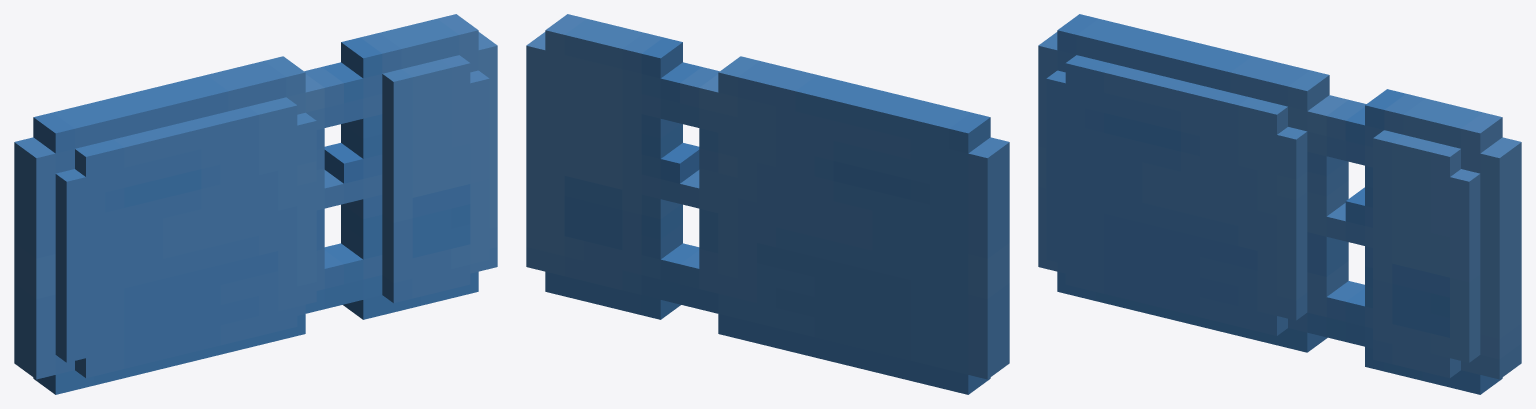
Rendered from ticket-blue.glb.
3 renders of one model, left to right at view 1: azimuth 30°, elevation 25°; view 2: azimuth 150°, elevation 25°; view 3: azimuth 330°, elevation 25°, orthographic.
Visible parts, largest first — view 1: prop; view 2: prop; view 3: prop.
Part boxes in pixels (left/top/right/bottom): prop: left=14, top=14, right=497, bottom=394; prop: left=526, top=14, right=1009, bottom=394; prop: left=1038, top=14, right=1521, bottom=394.
Bounding box in the file's own units: 16.62 × 9 × 2.08.
